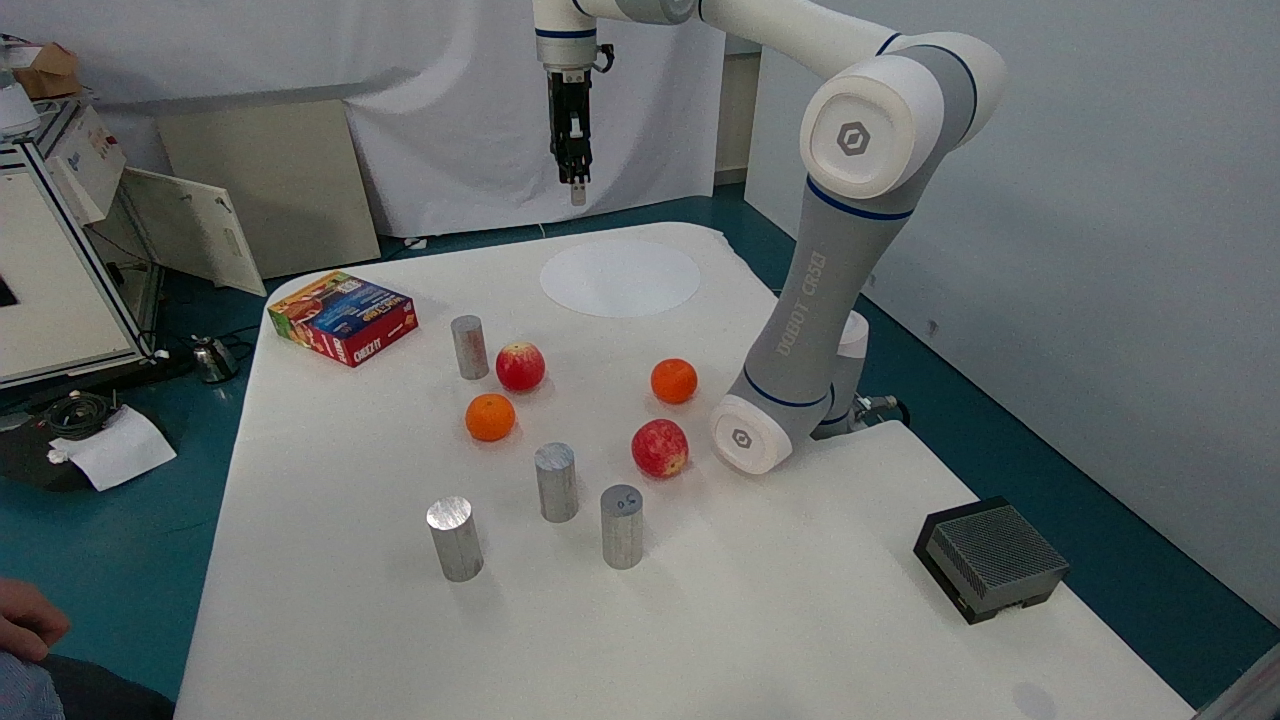apple: (642, 343, 701, 411), (459, 388, 521, 450)
metal rod: (620, 408, 690, 481), (490, 334, 552, 395)
orange: (420, 489, 490, 589), (524, 431, 587, 527), (593, 481, 649, 577), (443, 308, 499, 392)
